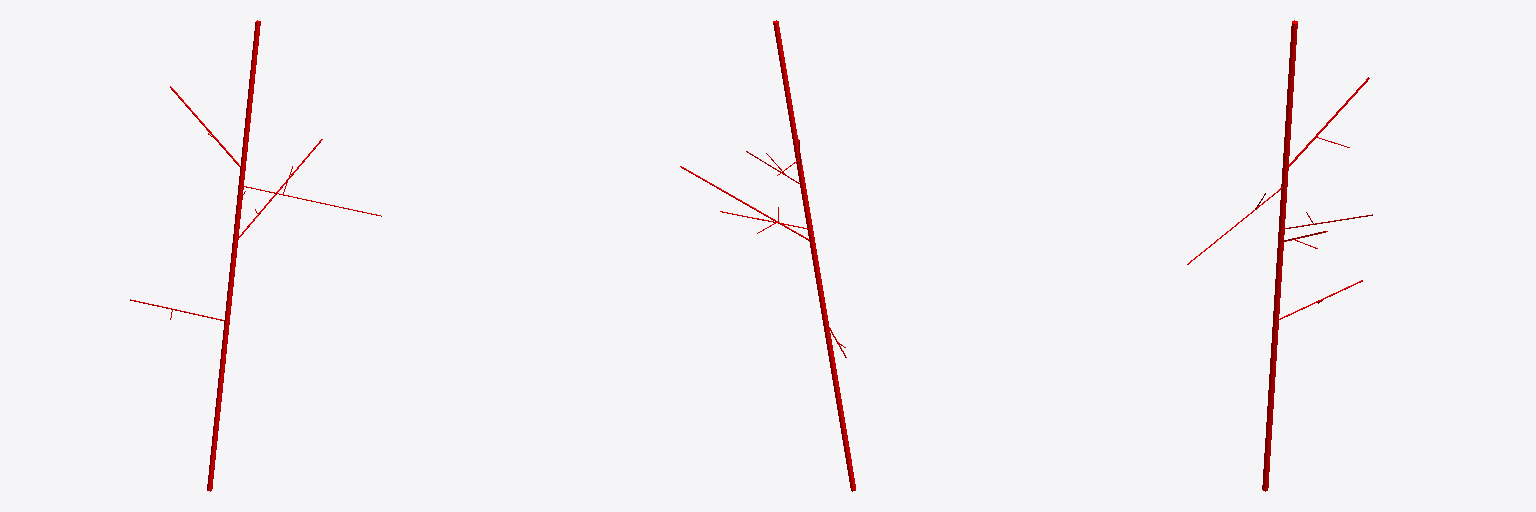
robot.urdf — tree_70.urdf:
<?xml version='1.0' encoding='UTF-8'?>
<robot name="tree_70.urdf">
  <link name="branch_0">
    <inertial>
      <origin xyz="0.0 0.0 0.0" rpy="0.0 -0.0 0.0"/>
      <mass value="0.1"/>
      <inertia ixx="0.001" ixy="0.0" ixz="0.0" iyy="0.001" iyz="0.0" izz="0.001"/>
    </inertial>
    <visual name="branch_0_visual">
      <geometry>
        <cylinder radius="0.058949923180047534" length="10.6997156040823"/>
      </geometry>
      <material name="semantic_material"/>
      <origin xyz="0.7687142569324374 0.2822366864421724 5.286813723413709" rpy="0.0 0.15367153883144202 0.3518745025139897"/>
    </visual>
    <collision name="branch_0_collision">
      <geometry>
        <cylinder radius="0.058949923180047534" length="10.6997156040823"/>
      </geometry>
      <origin xyz="0.7687142569324374 0.2822366864421724 5.286813723413709" rpy="0.0 0.15367153883144202 0.3518745025139897"/>
    </collision>
  </link>
  <link name="branch_1">
    <inertial>
      <origin xyz="0.0 0.0 0.0" rpy="0.0 -0.0 0.0"/>
      <mass value="0.1"/>
      <inertia ixx="0.001" ixy="0.0" ixz="0.0" iyy="0.001" iyz="0.0" izz="0.001"/>
    </inertial>
    <visual name="branch_1_visual">
      <geometry>
        <cylinder radius="0.017122496230730255" length="3.164327877182527"/>
      </geometry>
      <material name="semantic_material"/>
      <origin xyz="0.0 0.0 0.0" rpy="0.0 -0.0 0.0"/>
    </visual>
    <collision name="branch_1_collision">
      <geometry>
        <cylinder radius="0.017122496230730255" length="3.164327877182527"/>
      </geometry>
      <origin xyz="0.0 0.0 0.0" rpy="0.0 -0.0 0.0"/>
    </collision>
  </link>
  <link name="branch_2">
    <inertial>
      <origin xyz="0.0 0.0 0.0" rpy="0.0 -0.0 0.0"/>
      <mass value="0.1"/>
      <inertia ixx="0.001" ixy="0.0" ixz="0.0" iyy="0.001" iyz="0.0" izz="0.001"/>
    </inertial>
    <visual name="branch_2_visual">
      <geometry>
        <cylinder radius="0.01" length="0.5326238807772739"/>
      </geometry>
      <material name="semantic_material"/>
      <origin xyz="0.0 0.0 0.0" rpy="0.0 -0.0 0.0"/>
    </visual>
    <collision name="branch_2_collision">
      <geometry>
        <cylinder radius="0.01" length="0.5326238807772739"/>
      </geometry>
      <origin xyz="0.0 0.0 0.0" rpy="0.0 -0.0 0.0"/>
    </collision>
  </link>
  <link name="branch_3">
    <inertial>
      <origin xyz="0.0 0.0 0.0" rpy="0.0 -0.0 0.0"/>
      <mass value="0.1"/>
      <inertia ixx="0.001" ixy="0.0" ixz="0.0" iyy="0.001" iyz="0.0" izz="0.001"/>
    </inertial>
    <visual name="branch_3_visual">
      <geometry>
        <cylinder radius="0.020797834942360018" length="2.387545490936325"/>
      </geometry>
      <material name="semantic_material"/>
      <origin xyz="0.0 0.0 0.0" rpy="0.0 -0.0 0.0"/>
    </visual>
    <collision name="branch_3_collision">
      <geometry>
        <cylinder radius="0.020797834942360018" length="2.387545490936325"/>
      </geometry>
      <origin xyz="0.0 0.0 0.0" rpy="0.0 -0.0 0.0"/>
    </collision>
  </link>
  <link name="branch_4">
    <inertial>
      <origin xyz="0.0 0.0 0.0" rpy="0.0 -0.0 0.0"/>
      <mass value="0.1"/>
      <inertia ixx="0.001" ixy="0.0" ixz="0.0" iyy="0.001" iyz="0.0" izz="0.001"/>
    </inertial>
    <visual name="branch_4_visual">
      <geometry>
        <cylinder radius="0.01" length="0.6987200599809521"/>
      </geometry>
      <material name="semantic_material"/>
      <origin xyz="0.0 0.0 0.0" rpy="0.0 -0.0 0.0"/>
    </visual>
    <collision name="branch_4_collision">
      <geometry>
        <cylinder radius="0.01" length="0.6987200599809521"/>
      </geometry>
      <origin xyz="0.0 0.0 0.0" rpy="0.0 -0.0 0.0"/>
    </collision>
  </link>
  <link name="branch_5">
    <inertial>
      <origin xyz="0.0 0.0 0.0" rpy="0.0 -0.0 0.0"/>
      <mass value="0.1"/>
      <inertia ixx="0.001" ixy="0.0" ixz="0.0" iyy="0.001" iyz="0.0" izz="0.001"/>
    </inertial>
    <visual name="branch_5_visual">
      <geometry>
        <cylinder radius="0.014081074142625495" length="2.20819160064726"/>
      </geometry>
      <material name="semantic_material"/>
      <origin xyz="0.0 0.0 0.0" rpy="0.0 -0.0 0.0"/>
    </visual>
    <collision name="branch_5_collision">
      <geometry>
        <cylinder radius="0.014081074142625495" length="2.20819160064726"/>
      </geometry>
      <origin xyz="0.0 0.0 0.0" rpy="0.0 -0.0 0.0"/>
    </collision>
  </link>
  <link name="branch_6">
    <inertial>
      <origin xyz="0.0 0.0 0.0" rpy="0.0 -0.0 0.0"/>
      <mass value="0.1"/>
      <inertia ixx="0.001" ixy="0.0" ixz="0.0" iyy="0.001" iyz="0.0" izz="0.001"/>
    </inertial>
    <visual name="branch_6_visual">
      <geometry>
        <cylinder radius="0.01" length="0.2474306867757343"/>
      </geometry>
      <material name="semantic_material"/>
      <origin xyz="0.0 0.0 0.0" rpy="0.0 -0.0 0.0"/>
    </visual>
    <collision name="branch_6_collision">
      <geometry>
        <cylinder radius="0.01" length="0.2474306867757343"/>
      </geometry>
      <origin xyz="0.0 0.0 0.0" rpy="0.0 -0.0 0.0"/>
    </collision>
  </link>
  <link name="branch_7">
    <inertial>
      <origin xyz="0.0 0.0 0.0" rpy="0.0 -0.0 0.0"/>
      <mass value="0.1"/>
      <inertia ixx="0.001" ixy="0.0" ixz="0.0" iyy="0.001" iyz="0.0" izz="0.001"/>
    </inertial>
    <visual name="branch_7_visual">
      <geometry>
        <cylinder radius="0.012009837848924568" length="3.0990989377217444"/>
      </geometry>
      <material name="semantic_material"/>
      <origin xyz="0.0 0.0 0.0" rpy="0.0 -0.0 0.0"/>
    </visual>
    <collision name="branch_7_collision">
      <geometry>
        <cylinder radius="0.012009837848924568" length="3.0990989377217444"/>
      </geometry>
      <origin xyz="0.0 0.0 0.0" rpy="0.0 -0.0 0.0"/>
    </collision>
  </link>
  <link name="branch_8">
    <inertial>
      <origin xyz="0.0 0.0 0.0" rpy="0.0 -0.0 0.0"/>
      <mass value="0.1"/>
      <inertia ixx="0.001" ixy="0.0" ixz="0.0" iyy="0.001" iyz="0.0" izz="0.001"/>
    </inertial>
    <visual name="branch_8_visual">
      <geometry>
        <cylinder radius="0.01" length="0.6611812128983736"/>
      </geometry>
      <material name="semantic_material"/>
      <origin xyz="0.0 0.0 0.0" rpy="0.0 -0.0 0.0"/>
    </visual>
    <collision name="branch_8_collision">
      <geometry>
        <cylinder radius="0.01" length="0.6611812128983736"/>
      </geometry>
      <origin xyz="0.0 0.0 0.0" rpy="0.0 -0.0 0.0"/>
    </collision>
  </link>
  <link name="branch_9">
    <inertial>
      <origin xyz="0.0 0.0 0.0" rpy="0.0 -0.0 0.0"/>
      <mass value="0.1"/>
      <inertia ixx="0.001" ixy="0.0" ixz="0.0" iyy="0.001" iyz="0.0" izz="0.001"/>
    </inertial>
    <visual name="branch_9_visual">
      <geometry>
        <cylinder radius="0.012394898699531656" length="2.2547813402038397"/>
      </geometry>
      <material name="semantic_material"/>
      <origin xyz="0.0 0.0 0.0" rpy="0.0 -0.0 0.0"/>
    </visual>
    <collision name="branch_9_collision">
      <geometry>
        <cylinder radius="0.012394898699531656" length="2.2547813402038397"/>
      </geometry>
      <origin xyz="0.0 0.0 0.0" rpy="0.0 -0.0 0.0"/>
    </collision>
  </link>
  <link name="branch_10">
    <inertial>
      <origin xyz="0.0 0.0 0.0" rpy="0.0 -0.0 0.0"/>
      <mass value="0.1"/>
      <inertia ixx="0.001" ixy="0.0" ixz="0.0" iyy="0.001" iyz="0.0" izz="0.001"/>
    </inertial>
    <visual name="branch_10_visual">
      <geometry>
        <cylinder radius="0.01" length="0.34066520444109244"/>
      </geometry>
      <material name="semantic_material"/>
      <origin xyz="0.0 0.0 0.0" rpy="0.0 -0.0 0.0"/>
    </visual>
    <collision name="branch_10_collision">
      <geometry>
        <cylinder radius="0.01" length="0.34066520444109244"/>
      </geometry>
      <origin xyz="0.0 0.0 0.0" rpy="0.0 -0.0 0.0"/>
    </collision>
  </link>
  <joint name="joint_0_1" type="fixed">
    <parent link="branch_0"/>
    <child link="branch_1"/>
    <axis xyz="1. 0. 0."/>
    <origin xyz="2.1467740821139674 0.7361805825340298 6.33439114763318" rpy="-0.012668718853311788 1.089134172242803 0.3027487333047174"/>
  </joint>
  <joint name="joint_0_3" type="fixed">
    <parent link="branch_0"/>
    <child link="branch_3"/>
    <axis xyz="1. 0. 0."/>
    <origin xyz="0.6108964364951968 1.187637274211671 7.995799354497845" rpy="0.22549228724406575 0.8508478761505573 2.3690154169419"/>
  </joint>
  <joint name="joint_0_5" type="fixed">
    <parent link="branch_0"/>
    <child link="branch_5"/>
    <axis xyz="1. 0. 0."/>
    <origin xyz="-0.16970437815259615 1.0322267332890775 3.902880145096253" rpy="1.0601957407769917 1.4067444745249449 -2.9280478029543064"/>
  </joint>
  <joint name="joint_0_7" type="fixed">
    <parent link="branch_0"/>
    <child link="branch_7"/>
    <axis xyz="1. 0. 0."/>
    <origin xyz="2.208351980608764 -0.5641603028410801 6.601010138829363" rpy="-2.502405038900211 1.3545180898800604 3.1362891768735444"/>
  </joint>
  <joint name="joint_0_9" type="fixed">
    <parent link="branch_0"/>
    <child link="branch_9"/>
    <axis xyz="1. 0. 0."/>
    <origin xyz="1.4339867692029762 1.1866343826943648 6.310026414302966" rpy="0.25223775912068225 1.175621909978072 1.258182953469865"/>
  </joint>
  <joint name="joint_1_2" type="fixed">
    <parent link="branch_0"/>
    <child link="branch_2"/>
    <axis xyz="1. 0. 0."/>
    <origin xyz="1.617341070338119 0.7713092476794807 5.932161395587567" rpy="1.851551606338021 0.685419399468505 2.936137082728322"/>
  </joint>
  <joint name="joint_3_4" type="fixed">
    <parent link="branch_0"/>
    <child link="branch_4"/>
    <axis xyz="1. 0. 0."/>
    <origin xyz="0.8173503837903698 1.2927214478825915 7.702144285133713" rpy="-1.9539953926824079 0.9292565736068367 -0.558096679385752"/>
  </joint>
  <joint name="joint_5_6" type="fixed">
    <parent link="branch_0"/>
    <child link="branch_6"/>
    <axis xyz="1. 0. 0."/>
    <origin xyz="-0.32562019719092156 1.0736374550910237 3.8302654593631873" rpy="2.3187904506623287 -0.012852775915227524 -0.7521567593864887"/>
  </joint>
  <joint name="joint_7_8" type="fixed">
    <parent link="branch_0"/>
    <child link="branch_8"/>
    <axis xyz="1. 0. 0."/>
    <origin xyz="1.900304103774317 -0.08739538875774357 6.9667745743339555" rpy="0.6303224637833041 -0.26071972142761046 2.4213046154862523"/>
  </joint>
  <joint name="joint_9_10" type="fixed">
    <parent link="branch_0"/>
    <child link="branch_10"/>
    <axis xyz="1. 0. 0."/>
    <origin xyz="1.301126481795189 0.8546512177271784 6.33387883275518" rpy="-0.42580624493515223 0.2691605412396066 -2.1004664802432735"/>
  </joint>
  <material name="semantic_material">
    <color rgba="1. 0. 0. 1."/>
  </material>
</robot>

--- Render facts (derived) ---
The picture shows the robot from 3 angles, left to right: view 1: azimuth 30°, elevation 25°; view 2: azimuth 150°, elevation 25°; view 3: azimuth 270°, elevation 25°; orthographic projection.
Model tree_70.urdf with 11 links and 10 joints (10 fixed), rooted at branch_0, posed all joints at 0.
Links seen in each view (by area): view 1: branch_0; view 2: branch_0; view 3: branch_0.
Boxes of the visible links, left/top/right/bottom form: branch_0: left=207, top=20, right=260, bottom=491; branch_0: left=773, top=20, right=855, bottom=491; branch_0: left=1262, top=20, right=1297, bottom=491.
Size in the robot's own frame: 4.39 by 3.57 by 10.59 metres.
Geometry: primitives only (box / cylinder / sphere), no mesh files.
